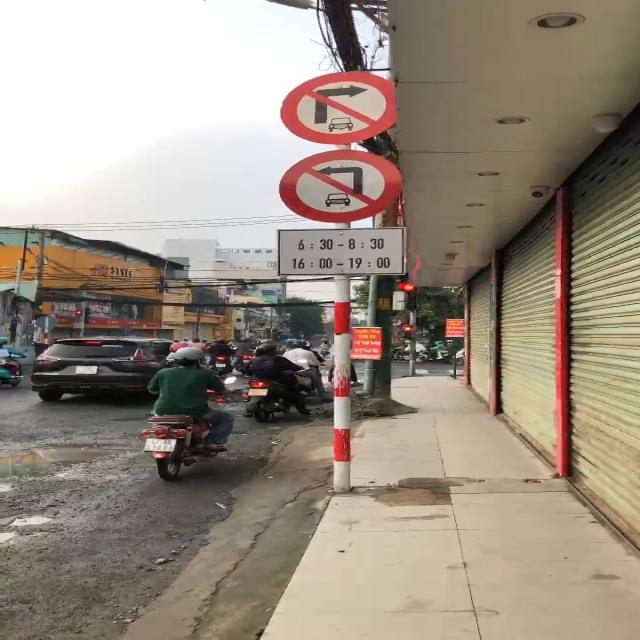Bien bao cam xe o to re phai: (278, 66, 412, 148)
Bien bao cam xe o to re trai: (276, 146, 420, 228)
